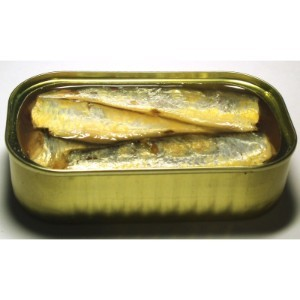sardine_brain food: (35, 77, 269, 184)
